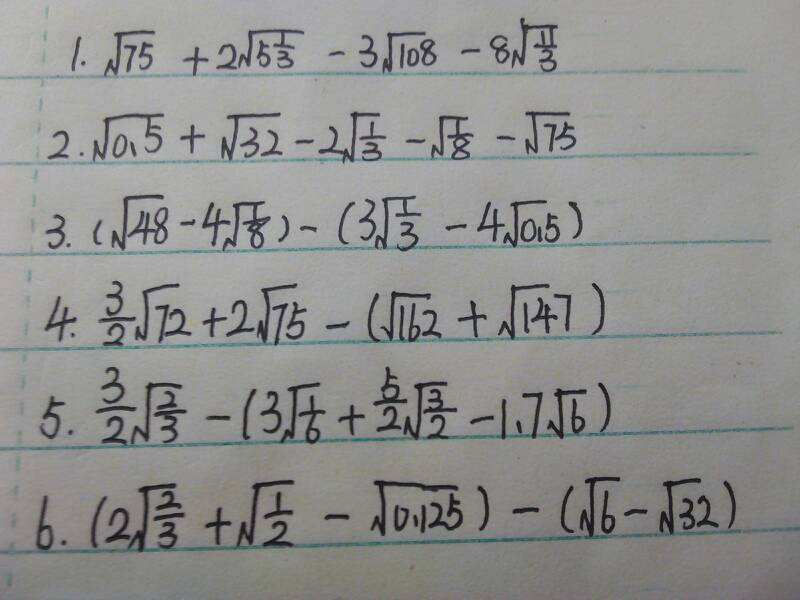division: (149, 509, 194, 527), (90, 314, 137, 326), (92, 403, 137, 415), (421, 403, 462, 415), (262, 508, 293, 523), (150, 406, 186, 418), (242, 214, 272, 228), (293, 408, 328, 420), (393, 209, 424, 222), (530, 41, 559, 53), (446, 129, 477, 140), (267, 38, 295, 50), (356, 133, 387, 143)
sqrt: (366, 471, 469, 540), (228, 475, 308, 551), (490, 279, 582, 340), (209, 108, 290, 164), (130, 280, 198, 345), (125, 481, 188, 550), (82, 109, 168, 159), (107, 189, 174, 253), (126, 377, 188, 446), (656, 471, 716, 538), (380, 289, 447, 345), (509, 15, 571, 73), (404, 378, 461, 441), (238, 24, 303, 79), (518, 106, 576, 164), (256, 280, 307, 345), (543, 382, 597, 443), (372, 191, 423, 255), (221, 197, 276, 256), (102, 23, 162, 77), (381, 23, 434, 81), (577, 475, 626, 536), (279, 383, 326, 446), (341, 106, 390, 166), (500, 199, 559, 248), (430, 107, 473, 163)
